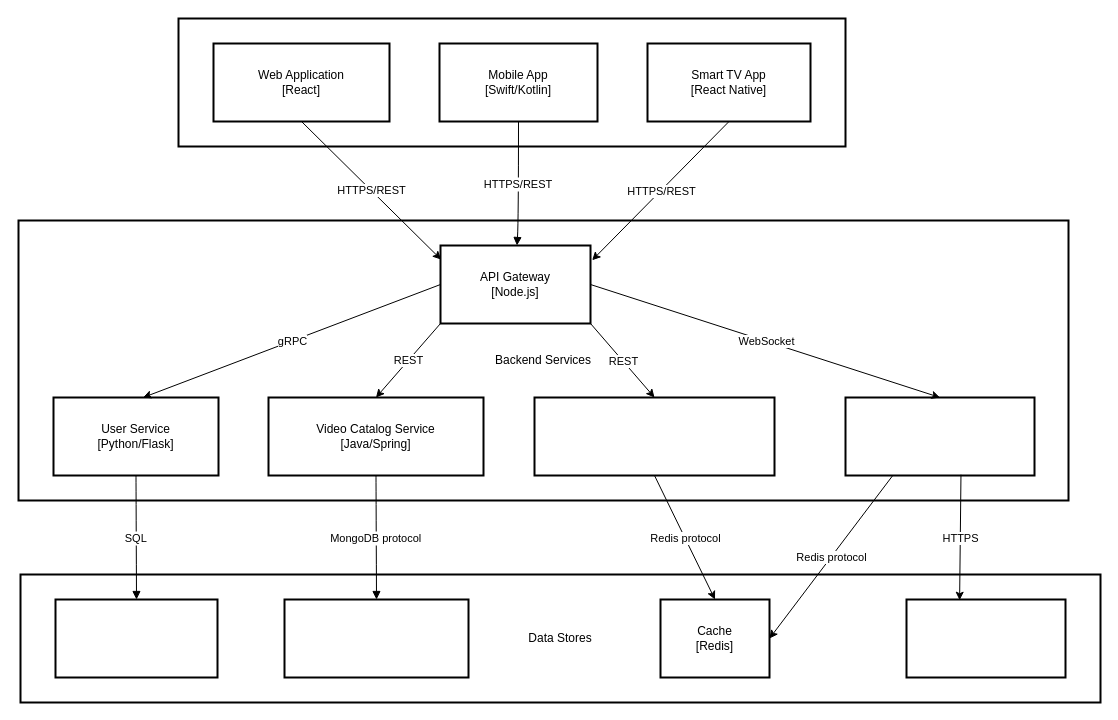
The diagram is 1118 pixels wide and 720 high, and some of its shapes have lost their labels. The centre of each missing label's shape, as x and y in pixels:
"Catalog Database [MongoDB]" belongs at point (376, 638).
"Recommendation Service [Python/FastAPI]" belongs at point (654, 436).
"Streaming Service [Go]" belongs at point (939, 436).
"User Database [PostgreSQL]" belongs at point (136, 638).
"Video Storage [AWS S3]" belongs at point (985, 638).
